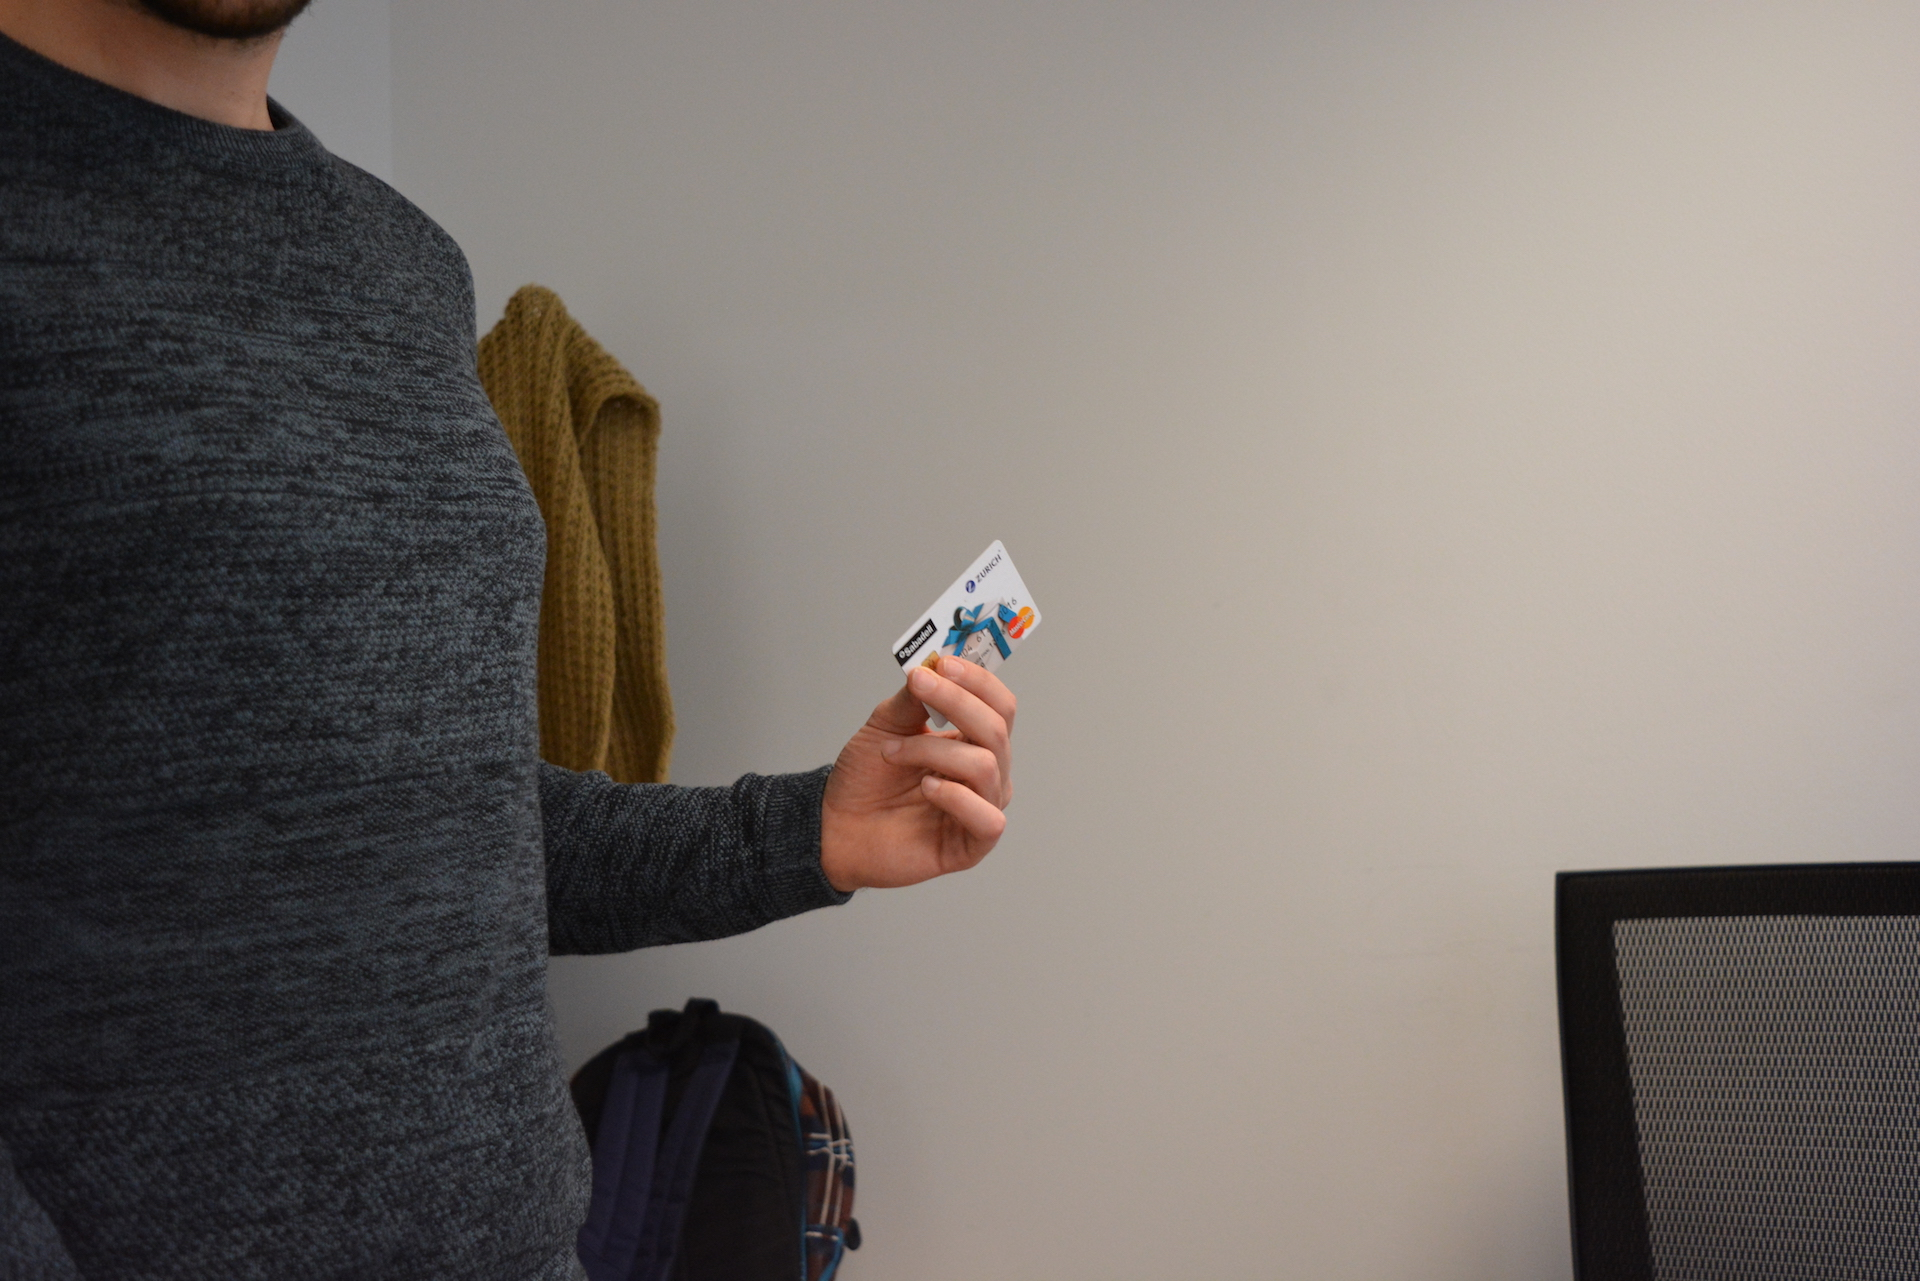tarjeta: (891, 538, 1044, 731)
